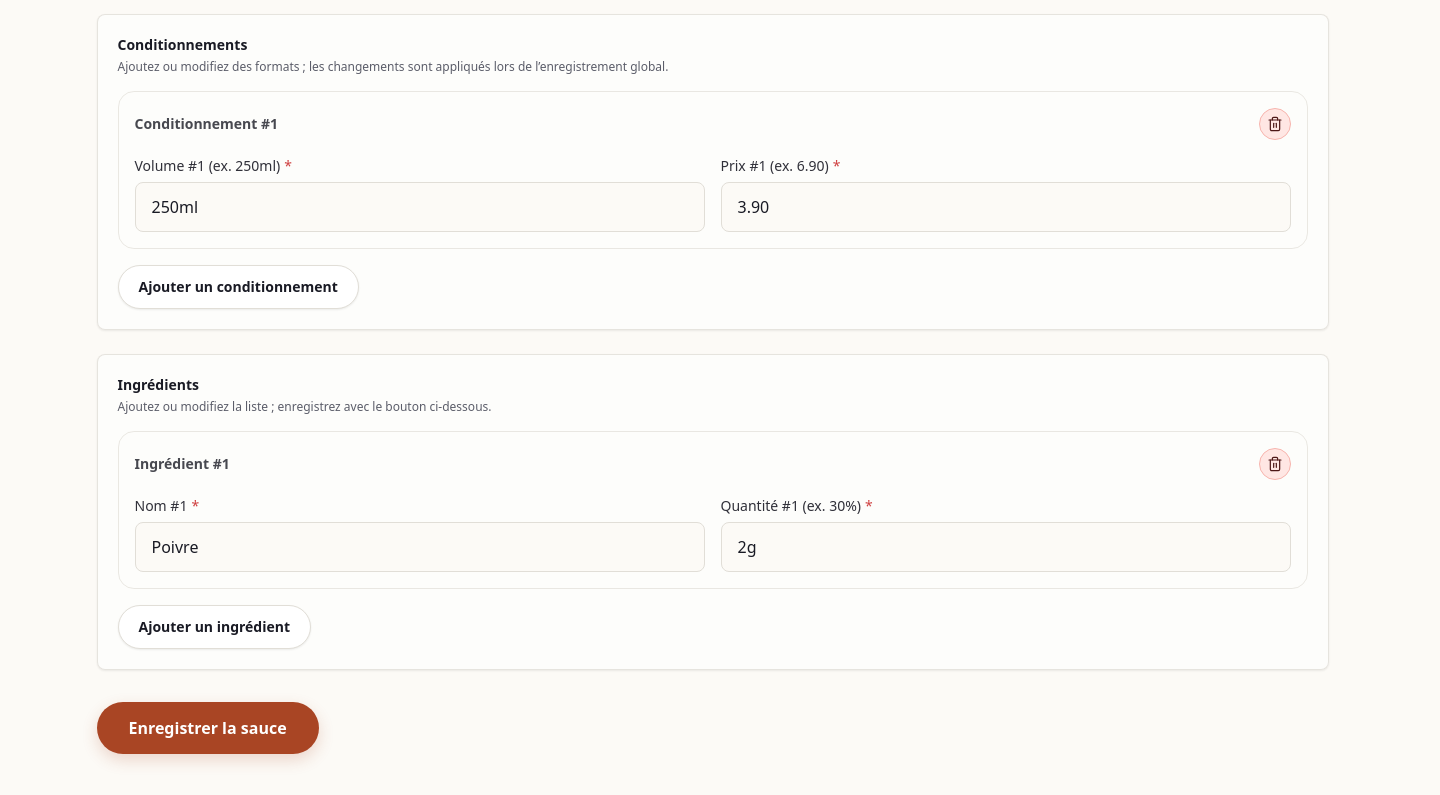
EditSaucePage › refetches sauce data when the user clicks reload after a version conflict
(page scrolled)
Click the button "Enregistrer la sauce" at (208, 728), box [96, 702, 319, 754]
(page scrolled)
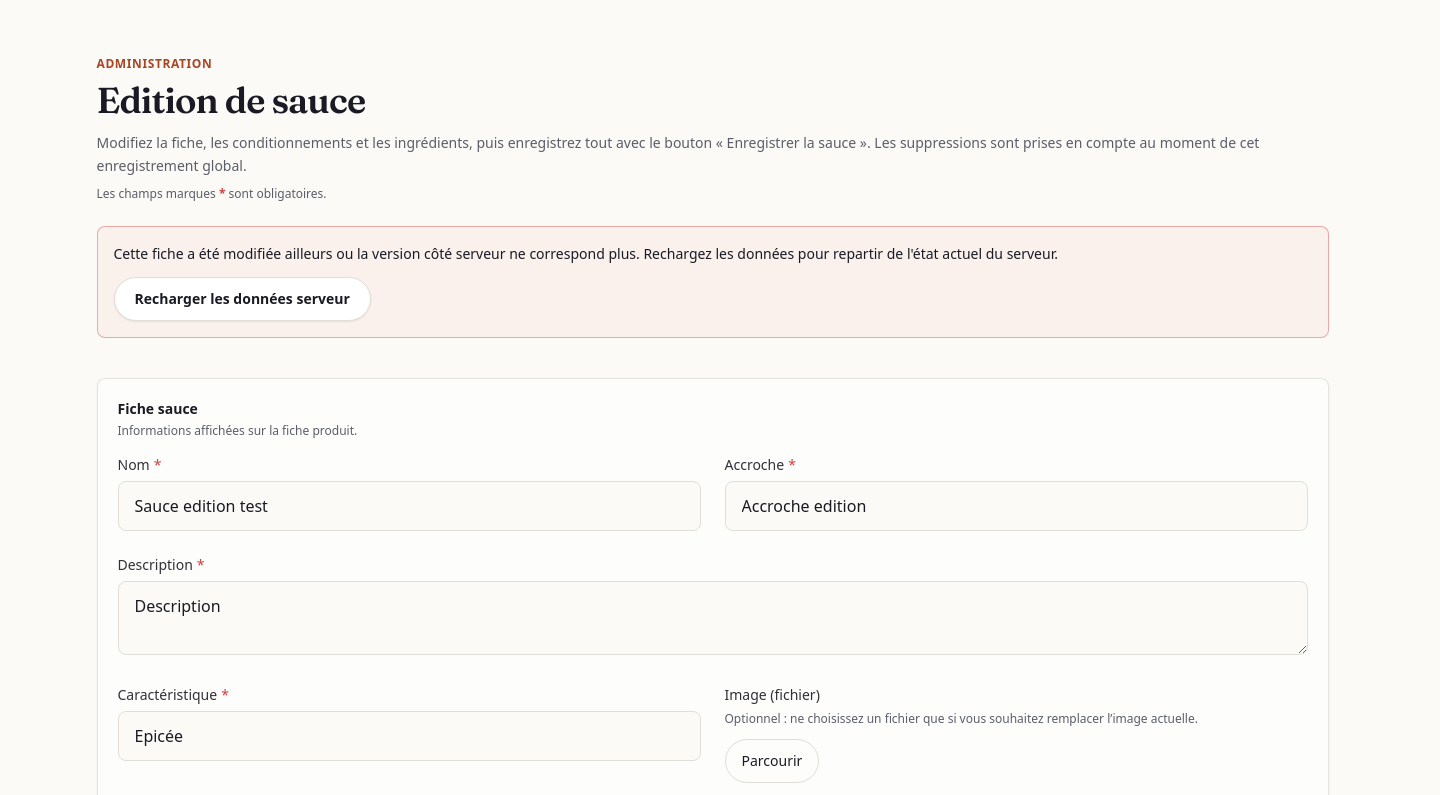
Expected: the text "Cette fiche a été modifiée ailleurs" is shown, [114, 244, 1058, 262]
Click the button "Recharger les données serveur" at (242, 299), box [114, 277, 371, 321]
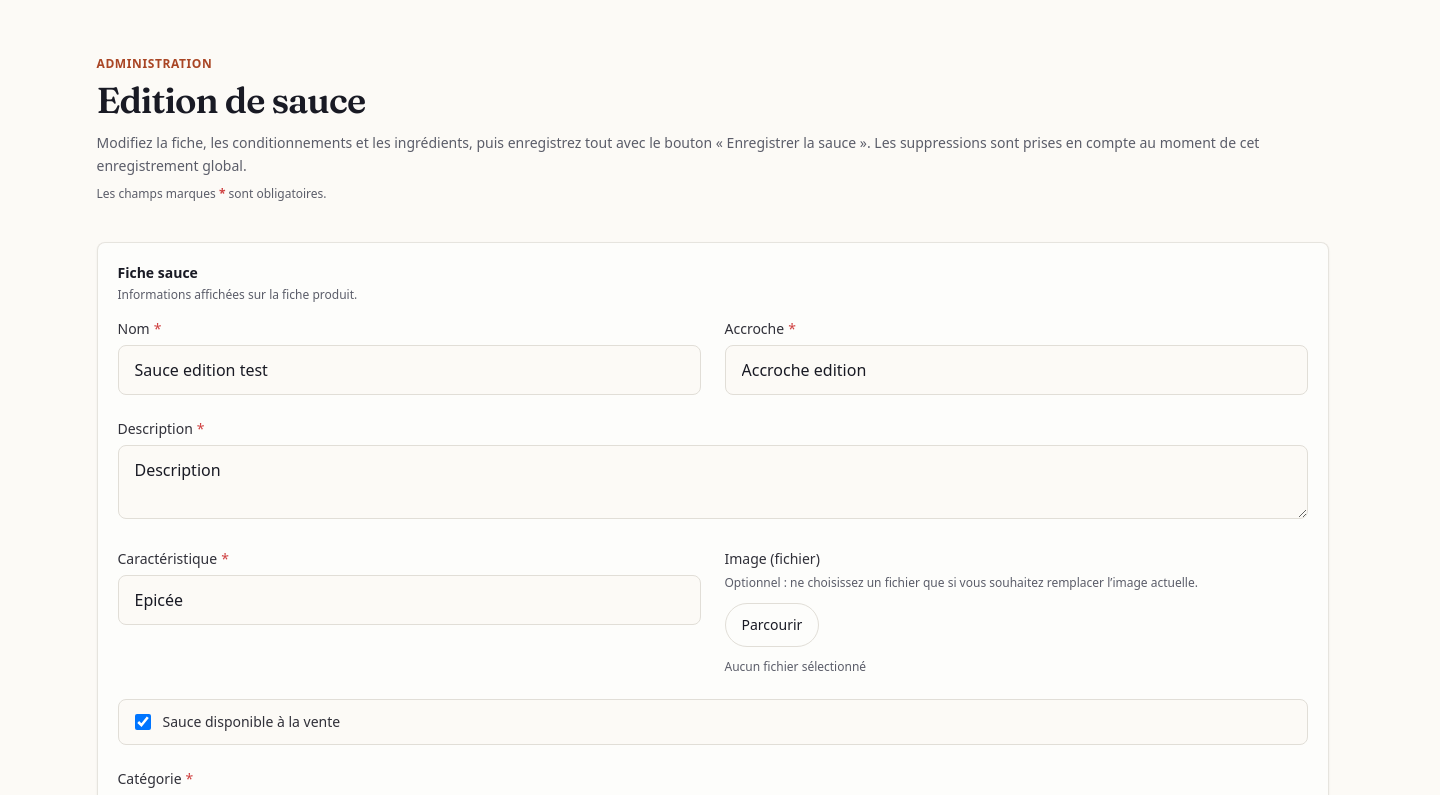
Expected: the text "Cette fiche a été modifiée ailleurs" is gone
